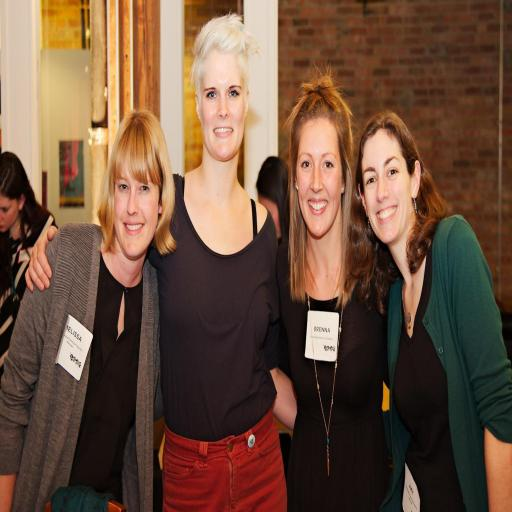person: (149, 14, 292, 511), (0, 110, 175, 511), (354, 112, 511, 511), (278, 71, 389, 511), (0, 152, 54, 377), (256, 157, 289, 243)
